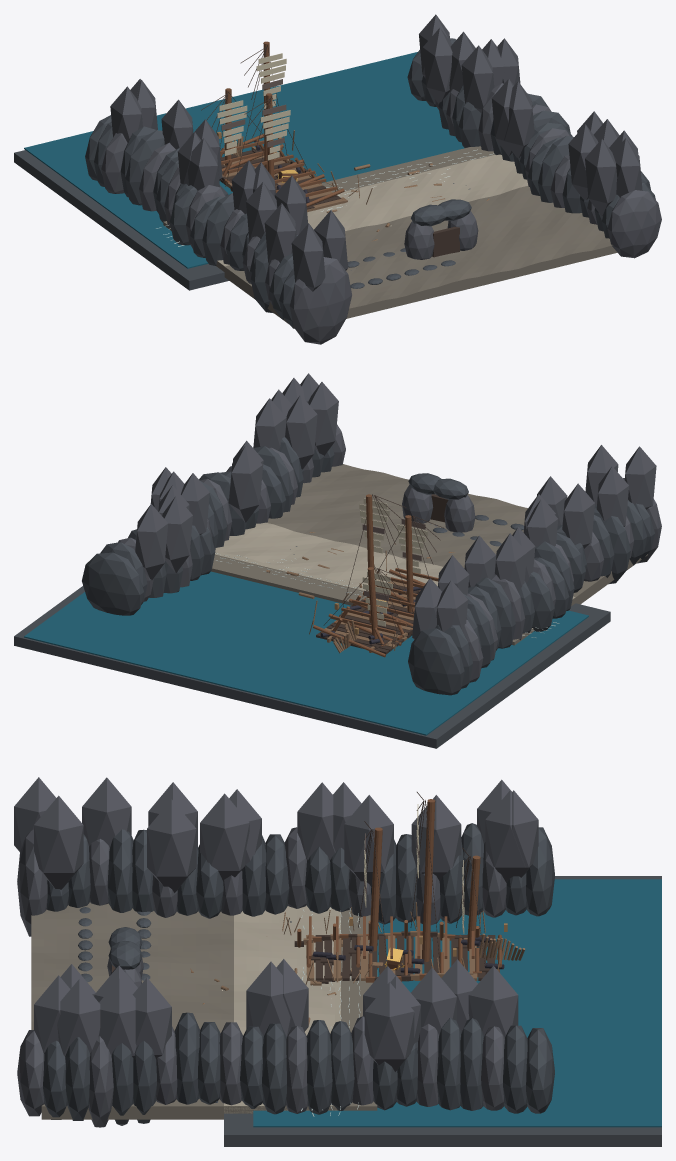
Rendered from Blackwake-Cove-v0604.glb.
3 views of the same model, one above another, from view 1: azimuth 30°, elevation 25°; view 2: azimuth 150°, elevation 25°; view 3: azimuth 270°, elevation 25° (orthographic). The views are drawn at different scales.
Visible parts, largest first — view 1: Water | animated moon glints, Ground sculpt | sculpted charcoal-sand coastal dunes, Ground sculpt | moonlit beachfront, Ground sculpt | continuous seabed, Cliff wall | deep coastal basalt -1 0, Cliff wall | deep coastal basalt 1 0, Cliff high ridgeline 1 13, Cliff high ridgeline -1 12, Cliff high ridgeline 1 1, Cliff high ridgeline 1 3, Cliff high ridgeline 1 10, Cliff high ridgeline -1 11 (+47 smaller); view 2: Water | animated moon glints, Ground sculpt | sculpted charcoal-sand coastal dunes, Ground sculpt | continuous seabed, Ground sculpt | moonlit beachfront, Cliff wall | deep coastal basalt 1 23, Cliff wall | deep coastal basalt -1 23, Cliff high ridgeline 1 9, Cliff high ridgeline 1 7, Cliff high ridgeline 1 1, Cliff high ridgeline 1 12, Cliff high ridgeline -1 13, Cliff high ridgeline -1 12 (+36 smaller); view 3: Water | animated moon glints, Ground sculpt | sculpted charcoal-sand coastal dunes, Ground sculpt | continuous seabed, Ground sculpt | moonlit beachfront, Cliff high ridgeline -1 0, Cliff high ridgeline -1 5, Cliff high ridgeline 1 8, Cliff high ridgeline -1 6, Cliff high ridgeline -1 2, Cliff high ridgeline -1 9, Cliff high ridgeline 1 7, Cliff high ridgeline -1 11 (+72 smaller).
Boxes of the visible parts, <box> form: Water | animated moon glints: <box>24,52,464,268</box>; Ground sculpt | sculpted charcoal-sand coastal dunes: <box>307,154,612,308</box>; Ground sculpt | moonlit beachfront: <box>163,146,617,327</box>; Ground sculpt | continuous seabed: <box>14,150,229,290</box>; Cliff wall | deep coastal basalt -1 0: <box>289,257,351,344</box>; Cliff wall | deep coastal basalt 1 0: <box>607,190,661,258</box>; Cliff high ridgeline 1 13: <box>585,139,617,216</box>; Cliff high ridgeline -1 12: <box>291,223,325,291</box>; Cliff high ridgeline 1 1: <box>422,28,452,103</box>; Cliff high ridgeline 1 3: <box>504,81,534,158</box>; Cliff high ridgeline 1 10: <box>461,45,494,112</box>; Cliff high ridgeline -1 11: <box>264,203,296,263</box>; Water | animated moon glints: <box>24,571,588,735</box>; Ground sculpt | sculpted charcoal-sand coastal dunes: <box>215,464,527,587</box>; Ground sculpt | continuous seabed: <box>14,586,610,748</box>; Ground sculpt | moonlit beachfront: <box>211,554,647,645</box>; Cliff wall | deep coastal basalt 1 23: <box>82,552,143,615</box>; Cliff wall | deep coastal basalt -1 23: <box>408,628,464,695</box>; Cliff high ridgeline 1 9: <box>228,445,262,522</box>; Cliff high ridgeline 1 7: <box>135,504,167,579</box>; Cliff high ridgeline 1 1: <box>162,496,192,572</box>; Cliff high ridgeline 1 12: <box>285,395,317,469</box>; Cliff high ridgeline -1 13: <box>562,483,594,548</box>; Cliff high ridgeline -1 12: <box>624,446,656,509</box>; Water | animated moon glints: <box>253,879,661,1127</box>; Ground sculpt | sculpted charcoal-sand coastal dunes: <box>31,902,334,1035</box>; Ground sculpt | continuous seabed: <box>224,876,661,1146</box>; Ground sculpt | moonlit beachfront: <box>41,909,377,1119</box>; Cliff high ridgeline -1 0: <box>34,795,83,889</box>; Cliff high ridgeline -1 5: <box>147,799,196,892</box>; Cliff high ridgeline 1 8: <box>364,982,414,1071</box>; Cliff high ridgeline -1 6: <box>200,793,249,880</box>; Cliff high ridgeline -1 2: <box>344,795,393,886</box>; Cliff high ridgeline -1 9: <box>411,795,461,881</box>; Cliff high ridgeline 1 7: <box>468,965,518,1037</box>; Cliff high ridgeline -1 11: <box>82,777,131,847</box>.
Bounding box in the file's own units: 42 × 15.12 × 44.4.
